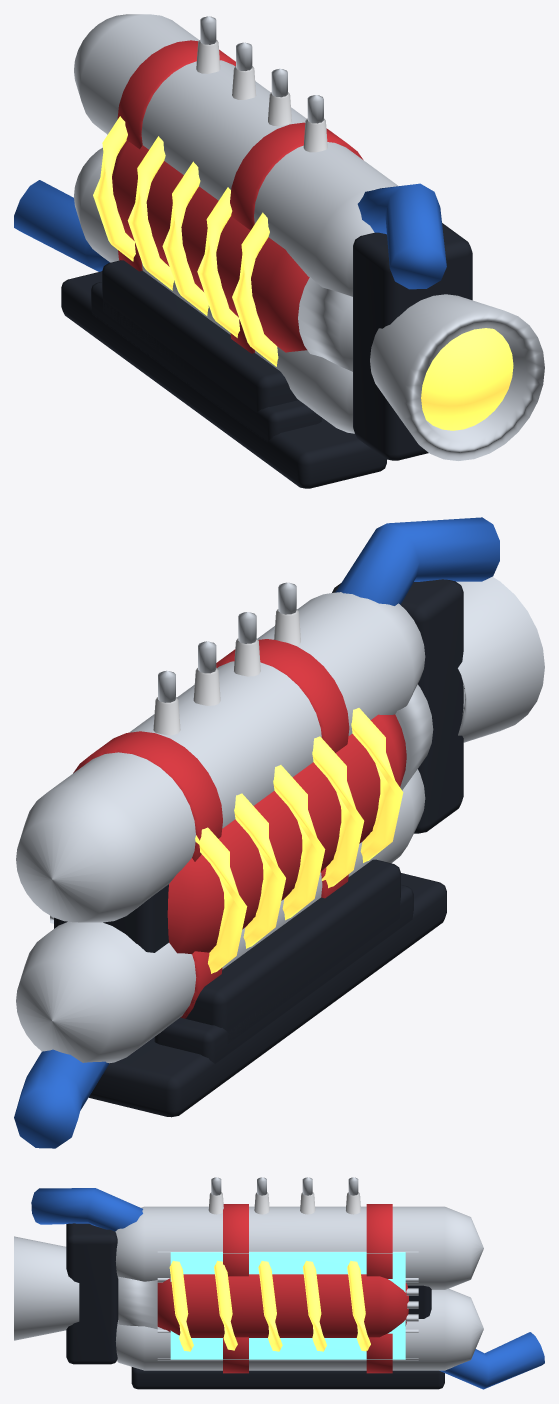
File: parts_booster.glb
The picture shows the model from 3 angles, top to bottom: view 1: azimuth 30°, elevation 25°; view 2: azimuth 150°, elevation 25°; view 3: azimuth 270°, elevation 25°; orthographic projection. The views are drawn at different scales.
Visible parts, largest first — view 1: TwinTank_0, TwinNozzle, IgniterCoil, IgniterBody, TwinCradle, IgniterBracket, TwinJoin, TwinGlow, TwinTank_1, CoolPipe_1, CoolBracket, CoolPipe_-1 (+7 smaller); view 2: TwinTank_0, TwinTank_1, IgniterBody, IgniterCoil, IgniterBracket, TwinCradle, TwinNozzle, TwinJoin, CoolPipe_1, CoolPipe_-1, TwinBand_0_0, CoolBracket (+8 smaller); view 3: TwinTank_0, IgniterBody, TwinTank_1, CoolGlow, TwinJoin, TwinCradle, TwinNozzle, IgniterCoil, CoolPipe_1, CoolPipe_-1, TwinBand_0_0, IgniterCap (+9 smaller).
Part boxes in pixels (left/top/right/bottom): TwinTank_0: left=74, top=14, right=398, bottom=296; TwinNozzle: left=370, top=294, right=544, bottom=460; IgniterCoil: left=93, top=116, right=278, bottom=366; IgniterBody: left=112, top=142, right=309, bottom=352; TwinCradle: left=61, top=271, right=386, bottom=488; IgniterBracket: left=102, top=260, right=298, bottom=412; TwinJoin: left=353, top=223, right=472, bottom=460; TwinGlow: left=421, top=328, right=513, bottom=430; TwinTank_1: left=74, top=147, right=354, bottom=433; CoolPipe_1: left=357, top=183, right=446, bottom=289; CoolBracket: left=91, top=282, right=321, bottom=442; CoolPipe_-1: left=14, top=180, right=109, bottom=271; TwinTank_0: left=16, top=592, right=425, bottom=922; TwinTank_1: left=16, top=769, right=425, bottom=1063; IgniterBody: left=167, top=714, right=406, bottom=954; IgniterCoil: left=195, top=708, right=403, bottom=973; IgniterBracket: left=185, top=859, right=400, bottom=1043; TwinCradle: left=89, top=873, right=446, bottom=1117; TwinNozzle: left=456, top=576, right=544, bottom=742; TwinJoin: left=332, top=579, right=463, bottom=833; CoolPipe_1: left=335, top=517, right=499, bottom=605; CoolPipe_-1: left=14, top=1049, right=109, bottom=1148; TwinBand_0_0: left=73, top=731, right=222, bottom=861; CoolBracket: left=154, top=885, right=413, bottom=1063; TwinTank_0: left=115, top=1206, right=483, bottom=1289; IgniterBody: left=157, top=1274, right=408, bottom=1337; TwinTank_1: left=115, top=1288, right=483, bottom=1370; CoolGlow: left=170, top=1252, right=405, bottom=1359; TwinJoin: left=66, top=1223, right=118, bottom=1364; TwinCradle: left=131, top=1367, right=444, bottom=1389; TwinNozzle: left=14, top=1236, right=79, bottom=1340; IgniterCoil: left=169, top=1260, right=370, bottom=1351; CoolPipe_1: left=31, top=1188, right=142, bottom=1231; CoolPipe_-1: left=439, top=1332, right=544, bottom=1389; TwinBand_0_0: left=366, top=1204, right=392, bottom=1278; IgniterCap: left=118, top=1276, right=157, bottom=1329.
Bounding box in the file's own units: 0.1027 × 0.179 × 0.4067.
